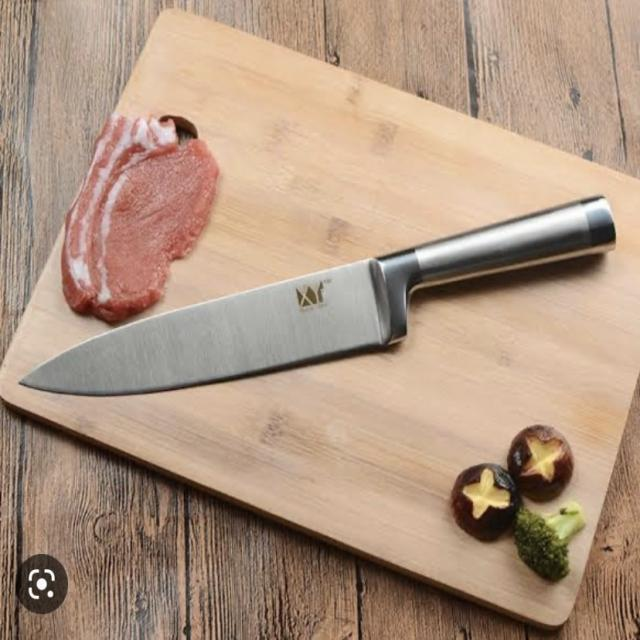Knife: (14, 191, 620, 401)
